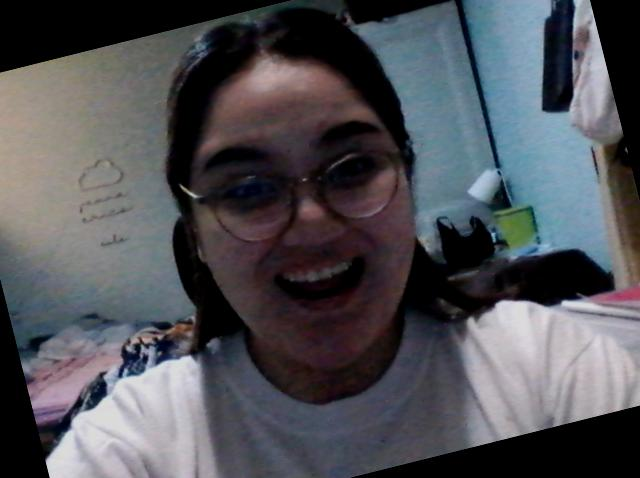senang: (160, 42, 459, 389)
